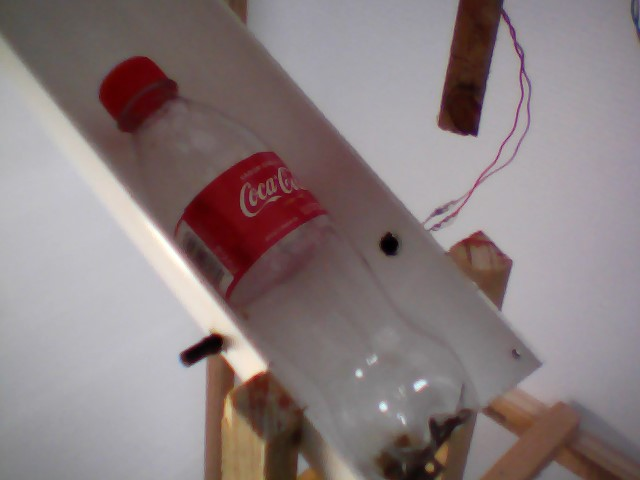plastico: (91, 53, 484, 480)
